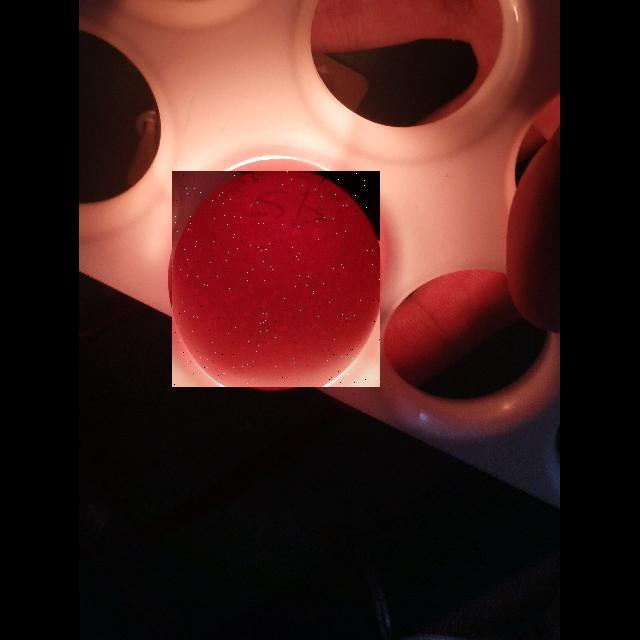Fertile: (172, 171, 380, 387)
